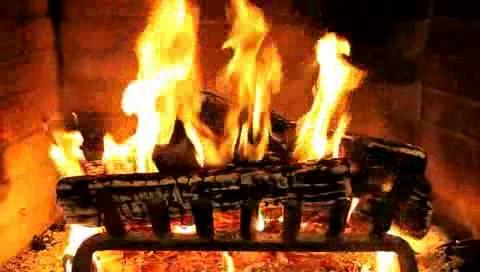fire: (9, 0, 480, 189)
